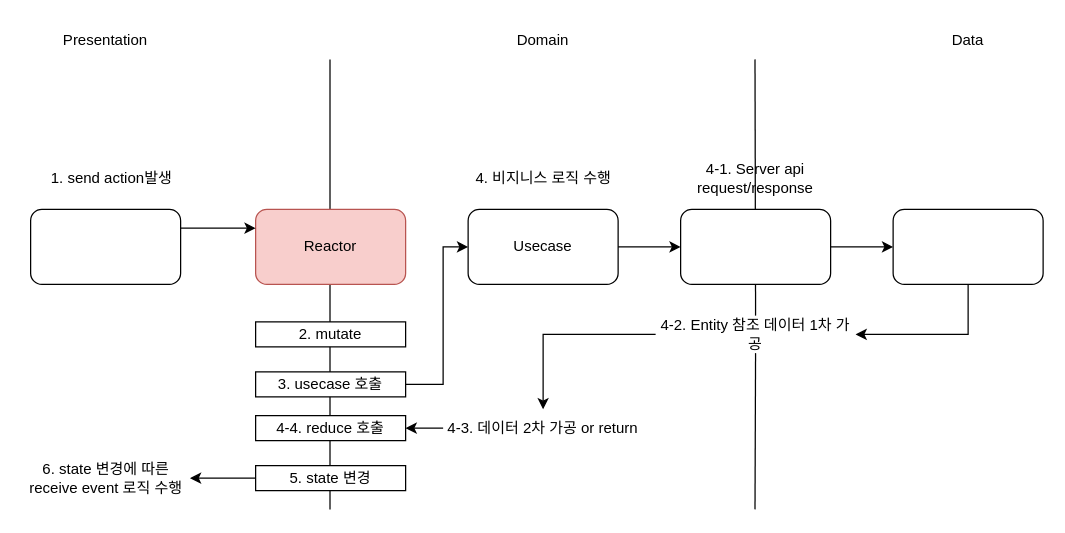
This 1065x533 diagram has some shape labels left out. Here are the shapes that lost their labels. From the top down, the centre of each, then its label:
[105,246]: ViewController
[755,246]: Repository
[967,246]: Entity
